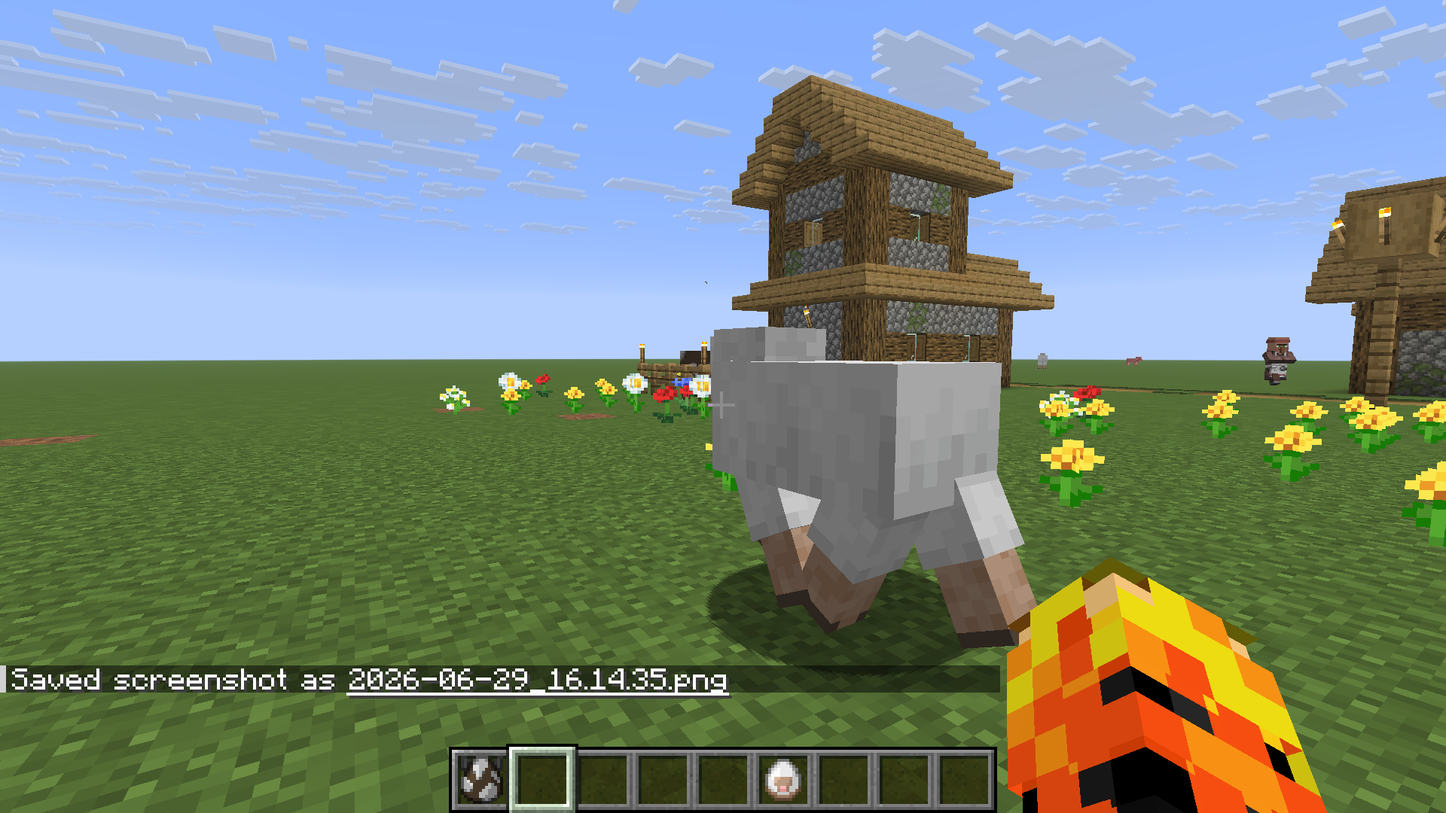Sheep: (705, 329, 1024, 623)
Torch: (1368, 199, 1407, 246), (1330, 217, 1353, 249)
flower: (1036, 374, 1119, 444), (1032, 446, 1104, 514), (672, 365, 721, 428), (612, 366, 658, 419), (429, 375, 472, 425), (496, 365, 531, 426)
villager: (1261, 332, 1297, 393)
